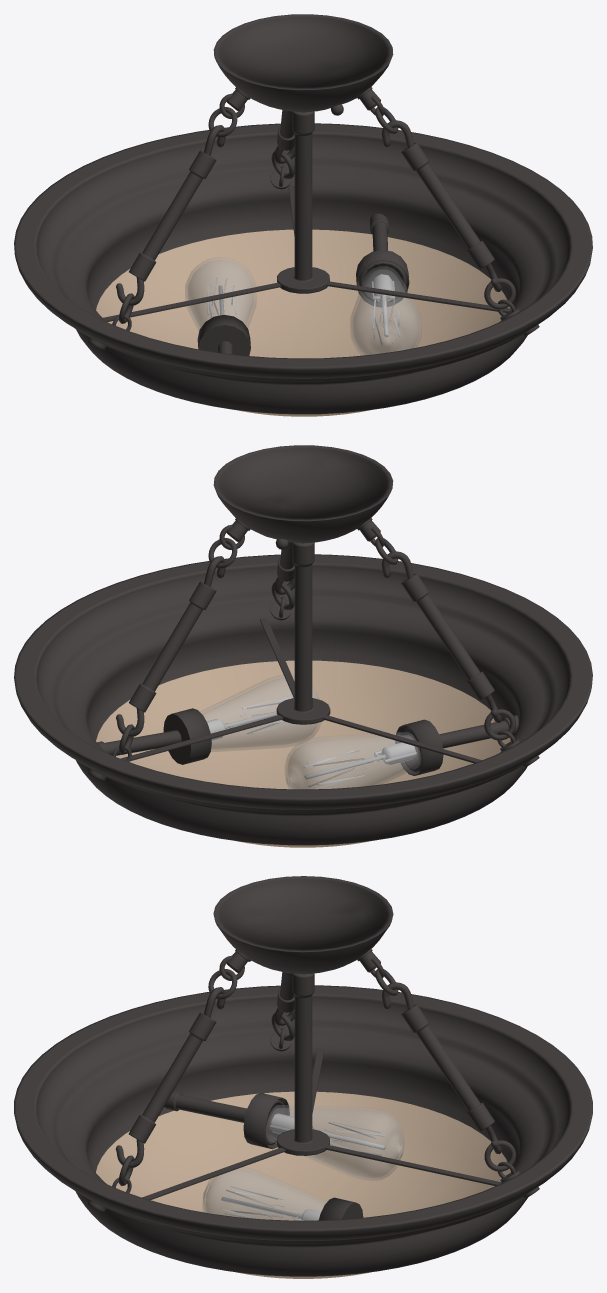
Rendered from abo-B07M6PHM8C.glb.
The picture shows the model from 3 angles, top to bottom: view 1: azimuth 30°, elevation 25°; view 2: azimuth 150°, elevation 25°; view 3: azimuth 270°, elevation 25°; orthographic projection.
Size of the model in its own units: 0.386 by 0.241 by 0.386.
1 material, 1 textured.
